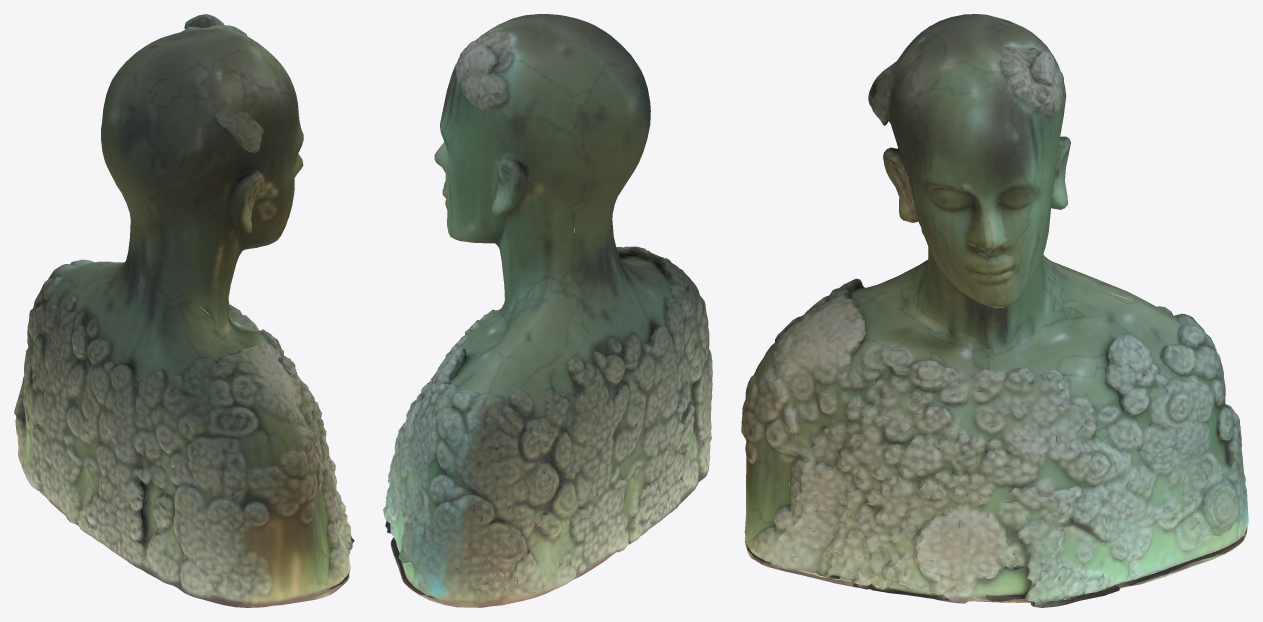
Rendered from Statue 1.glb.
3 renders of one model, left to right at view 1: azimuth 30°, elevation 25°; view 2: azimuth 150°, elevation 25°; view 3: azimuth 270°, elevation 25°, orthographic. The views are drawn at different scales.
Parts seen in each view (by area): view 1: Statue 1.001; view 2: Statue 1.001; view 3: Statue 1.001.
Part boxes in pixels (x1,y1,x2,y2): Statue 1.001: (14,14,354,607); Statue 1.001: (383,14,712,607); Statue 1.001: (741,14,1248,607).
Size of the model in its own units: 0.2594 by 0.5197 by 0.4608.
1 material, 1 textured.
